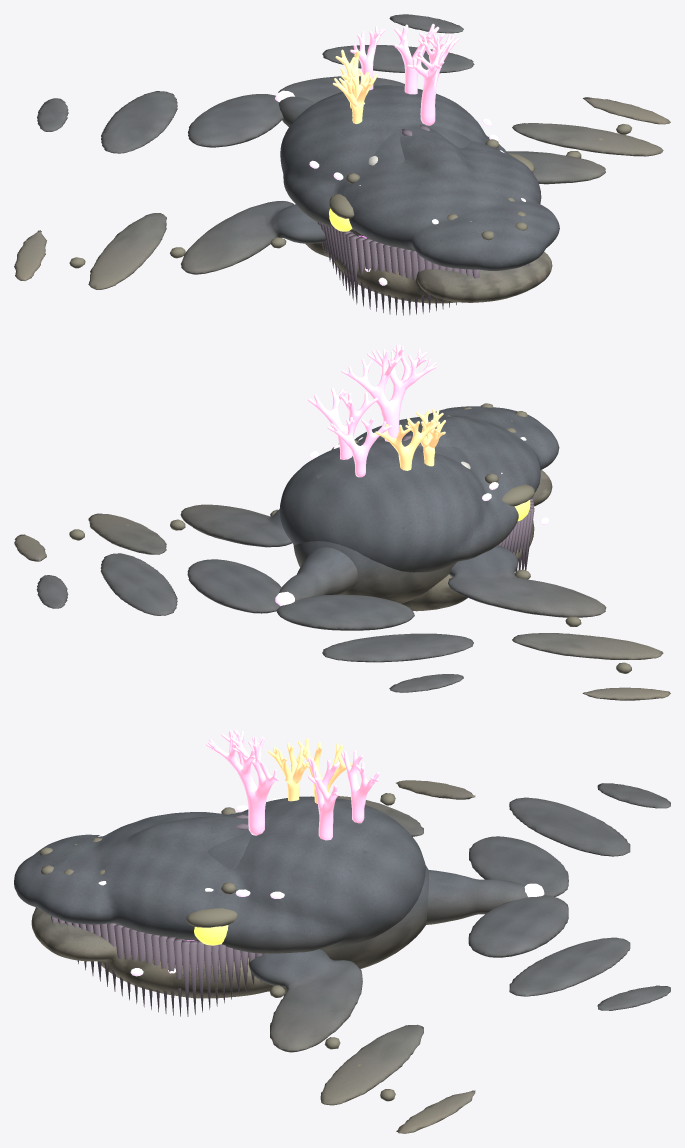
The model's file is gorae.glb.
The picture shows the model from 3 angles, top to bottom: view 1: azimuth 30°, elevation 25°; view 2: azimuth 150°, elevation 25°; view 3: azimuth 270°, elevation 25°; orthographic projection. The views are drawn at different scales.
Visible parts, largest first — view 1: skull_m, segF_m, tail_m, jaw_m, segC_m, seg_m; view 2: skull_m, tail_m, segF_m, segC_m, seg_m, jaw_m; view 3: skull_m, tail_m, segF_m, jaw_m, seg_m, segC_m.
Boxes of the visible parts, x1,y1,x2,y2 form: skull_m: (280, 23, 559, 315); segF_m: (14, 97, 670, 289); tail_m: (37, 14, 474, 153); jaw_m: (305, 235, 552, 303); segC_m: (335, 33, 459, 125); seg_m: (350, 125, 470, 236); skull_m: (279, 387, 559, 572); tail_m: (36, 547, 473, 692); segF_m: (14, 504, 670, 700); segC_m: (341, 344, 440, 470); seg_m: (293, 439, 471, 603); jaw_m: (401, 470, 552, 611); skull_m: (14, 742, 425, 1016); tail_m: (426, 783, 670, 1010); segF_m: (248, 780, 475, 1133); jaw_m: (31, 907, 287, 998); seg_m: (194, 812, 428, 968); segC_m: (206, 729, 352, 835).
Size of the model in its own units: 18.1 by 6.13 by 14.27.
8 materials, 1 textured.
